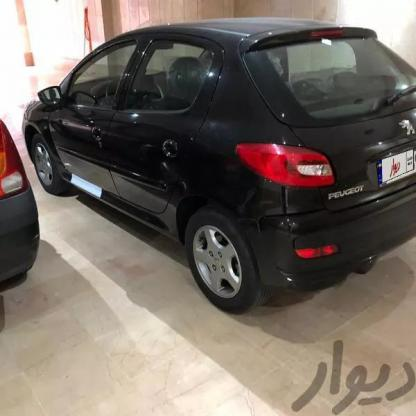Car: (15, 0, 416, 317), (0, 92, 46, 304)
